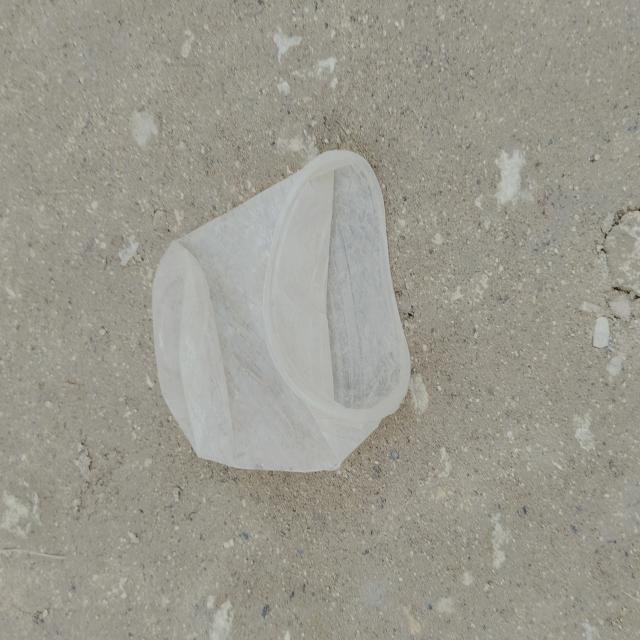plastic: (144, 140, 418, 486)
